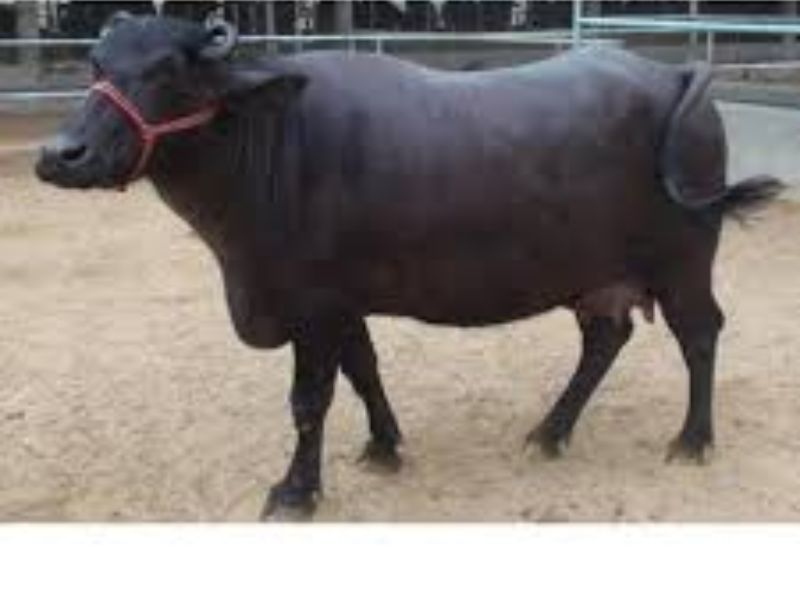buffalo: (38, 3, 783, 518)
